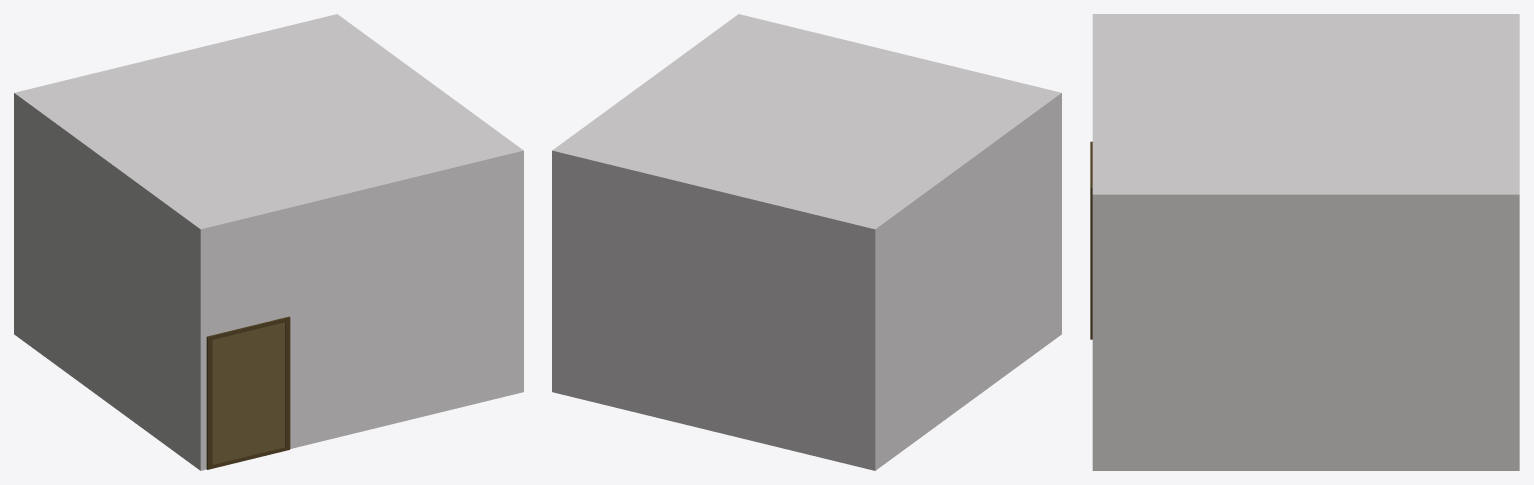
The model's file is house.glb.
3 renders of one model, left to right at view 1: azimuth 30°, elevation 25°; view 2: azimuth 150°, elevation 25°; view 3: azimuth 270°, elevation 25°, orthographic. The views are drawn at different scales.
Visible parts, largest first — view 1: house, door, casing-door; view 2: house; view 3: house, casing-door.
Part boxes in pixels (bbox=[...]): house: bbox=[14, 14, 523, 470]; door: bbox=[212, 322, 284, 464]; casing-door: bbox=[206, 316, 290, 469]; house: bbox=[552, 14, 1061, 470]; house: bbox=[1092, 14, 1519, 470]; casing-door: bbox=[1090, 141, 1092, 339].
Size of the model in its own units: 14 by 10 by 14.08.
